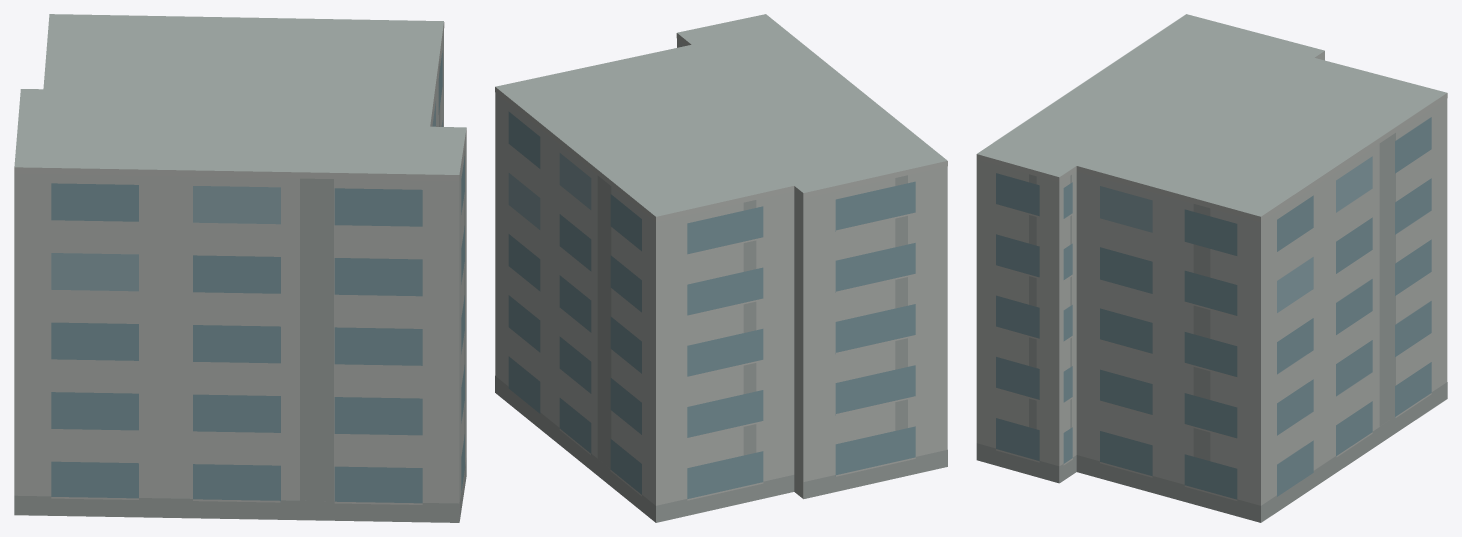
Rendered from survey-upis-32486706.glb.
3 renders of one model, left to right at view 1: azimuth 30°, elevation 25°; view 2: azimuth 150°, elevation 25°; view 3: azimuth 270°, elevation 25°, orthographic. The views are drawn at different scales.
Visible parts, largest first — view 1: survey-upis-32486706.tmp; view 2: survey-upis-32486706.tmp; view 3: survey-upis-32486706.tmp.
Part boxes in pixels (box(x1,y1,x2,y2)): survey-upis-32486706.tmp: box(14, 14, 466, 522); survey-upis-32486706.tmp: box(495, 14, 947, 522); survey-upis-32486706.tmp: box(976, 14, 1447, 522).
Size of the model in its own units: 19.18 by 13.5 by 18.83.
